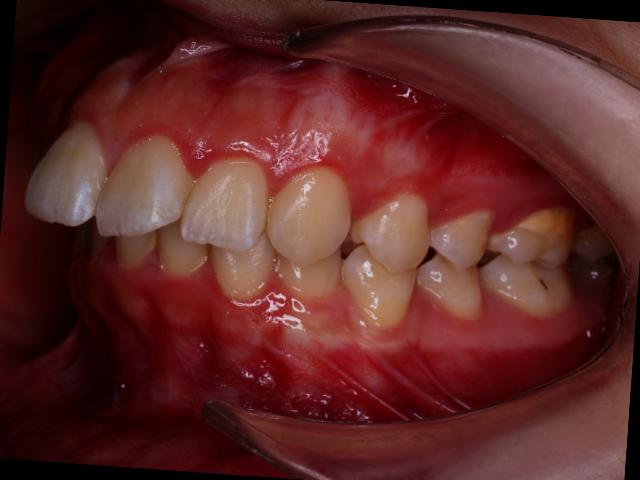canine class II 1/2: (255, 153, 423, 334)
molar class II 1/2: (479, 194, 581, 327)
